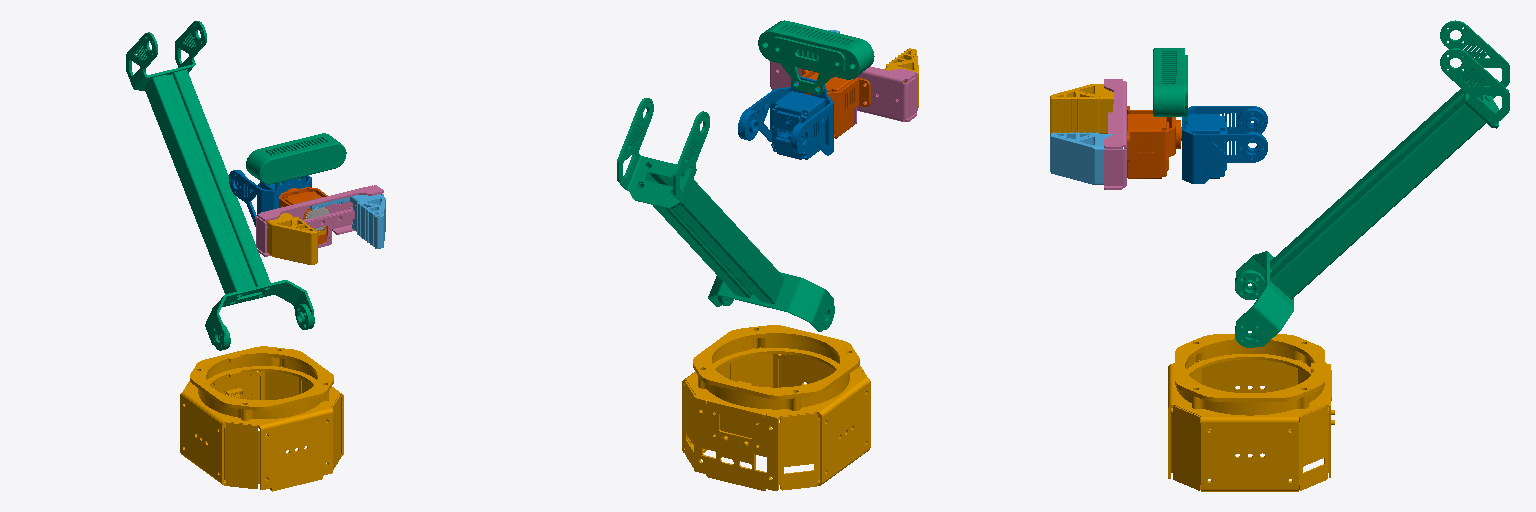
robot.urdf — NexArm-sim:
<?xml version='1.0' encoding='utf-8'?>
<robot name="NexArm-sim">
  <link name="base_link">
    <inertial>
      <origin xyz="0.5393802715439057 0.06383699083344999 0.018575393211147675" rpy="0.0 0.0 0.0" />
      <mass value="0.7867009727411078" />
      <inertia ixx="0.0013980203341607727" iyy="0.0014405623684496105" izz="0.0018724205136954886" ixy="-4.476497315573924e-07" iyz="-1.1875609967841377e-05" ixz="4.8308012364634e-09" />
    </inertial>
    <visual name="base_link_visual">
      <origin xyz="0.0 0.0 0.0" rpy="0.0 -0.0 0.0" />
      <geometry>
        <mesh filename="meshes/base_link.stl" scale="0.001 0.001 0.001" />
      </geometry>
    </visual>
    <collision name="base_link_collision">
      <origin xyz="0.0 0.0 0.0" rpy="0.0 -0.0 0.0" />
      <geometry>
        <mesh filename="meshes/base_link.stl" scale="0.001 0.001 0.001" />
      </geometry>
    </collision>
  </link>
  <link name="link_1">
    <inertial>
      <origin xyz="-4.199830115680925e-08 0.000461154218476052 -0.022484812844014285" rpy="0.0 -0.0 0.0" />
      <mass value="0.7298097041640206" />
      <inertia ixx="0.0005196380704404749" iyy="0.0006372106608207029" izz="0.0006411280732055158" ixy="1.5503778090890374e-06" iyz="-5.0336215709095335e-06" ixz="1.344094443384014e-09" />
    </inertial>
    <visual name="link_1_visual">
      <origin xyz="-0.5393690200000001 0.06397276 0.049" rpy="3.141592653589793 -0.0 0.0" />
      <geometry>
        <mesh filename="meshes/link_1.stl" scale="0.001 0.001 0.001" />
      </geometry>
    </visual>
    <collision name="link_1_collision">
      <origin xyz="-0.5393690200000001 0.06397276 0.049" rpy="3.141592653589793 -0.0 0.0" />
      <geometry>
        <mesh filename="meshes/link_1.stl" scale="0.001 0.001 0.001" />
      </geometry>
    </collision>
  </link>
  <link name="link_2">
    <inertial>
      <origin xyz="0.08170561036299265 0.08044811229562124 0.03427999602199321" rpy="0.0 -0.0 0.0" />
      <mass value="0.4994895733577694" />
      <inertia ixx="0.0011840260217031162" iyy="0.0012834939144562019" izz="0.002232805038931151" ixy="-0.0010795166454906132" iyz="6.3851771092693355e-12" ixz="7.2314793042593806e-12" />
    </inertial>
    <visual name="link_2_visual">
      <origin xyz="-0.10644507000000002 -0.06397276 0.578649020000001" rpy="-0.0 1.5707963267948966 0" />
      <geometry>
        <mesh filename="meshes/link_2.stl" scale="0.001 0.001 0.001" />
      </geometry>
    </visual>
    <collision name="link_2_collision">
      <origin xyz="-0.10644507000000002 -0.06397276 0.578649020000001" rpy="-0.0 1.5707963267948966 0" />
      <geometry>
        <mesh filename="meshes/link_2.stl" scale="0.001 0.001 0.001" />
      </geometry>
    </collision>
  </link>
  <link name="link_3">
    <inertial>
      <origin xyz="-0.02959882086442427 -0.06364854907978122 -0.018747624887388882" rpy="0.0 -0.0 0.0" />
      <mass value="0.5027979794005489" />
      <inertia ixx="0.0012457364008059968" iyy="0.0003252813199526585" izz="0.0014864851567596982" ixy="-0.0005481574072941295" iyz="1.7122605748571275e-06" ixz="6.545497001490061e-07" />
    </inertial>
    <visual name="link_3_visual">
      <origin xyz="-0.29168374 -0.1969340899999739 0.5194390200000099" rpy="-0.0 1.5707963267948464 0" />
      <geometry>
        <mesh filename="meshes/link_3.stl" scale="0.001 0.001 0.001" />
      </geometry>
    </visual>
    <collision name="link_3_collision">
      <origin xyz="-0.29168374 -0.1969340899999739 0.5194390200000099" rpy="-0.0 1.5707963267948464 0" />
      <geometry>
        <mesh filename="meshes/link_3.stl" scale="0.001 0.001 0.001" />
      </geometry>
    </collision>
  </link>
  <link name="link_4">
    <inertial>
      <origin xyz="-0.004596162045565677 0.024238573406463956 0.02009884794590512" rpy="0.0 -0.0 0.0" />
      <mass value="0.11506895352591937" />
      <inertia ixx="5.093441135242682e-05" iyy="3.793835926420297e-05" izz="3.8344234090156165e-05" ixy="2.892912590979997e-06" iyz="-3.0530253180508643e-07" ixz="-1.847602894289313e-08" />
    </inertial>
    <visual name="link_4_visual">
      <origin xyz="-0.23040605 0.06551997 -0.51911883" rpy="-3.141592653589793 -1.5707963267948966 0" />
      <geometry>
        <mesh filename="meshes/link_4.stl" scale="0.001 0.001 0.001" />
      </geometry>
    </visual>
    <collision name="link_4_collision">
      <origin xyz="-0.23040605 0.06551997 -0.51911883" rpy="-3.141592653589793 -1.5707963267948966 0" />
      <geometry>
        <mesh filename="meshes/link_4.stl" scale="0.001 0.001 0.001" />
      </geometry>
    </collision>
  </link>
  <link name="link_5">
    <inertial>
      <origin xyz="-6.0039181147146795e-05 -0.004197779031396997 0.016151653758254322" rpy="0.0 -0.0 0.0" />
      <mass value="0.08776451730987904" />
      <inertia ixx="1.6187345587265374e-05" iyy="1.8088799273514866e-05" izz="1.8185347874118823e-05" ixy="-7.538487065139599e-08" iyz="3.821086892151775e-07" ixz="-1.9977723024017192e-08" />
    </inertial>
    <visual name="link_5_visual">
      <origin xyz="-0.5393686400000001 -0.23042272 0.01828561" rpy="-1.5707963267948966 -0.0 0.0" />
      <geometry>
        <mesh filename="meshes/link_5.stl" scale="0.001 0.001 0.001" />
      </geometry>
    </visual>
    <collision name="link_5_collision">
      <origin xyz="-0.5393686400000001 -0.23042272 0.01828561" rpy="-1.5707963267948966 -0.0 0.0" />
      <geometry>
        <mesh filename="meshes/link_5.stl" scale="0.001 0.001 0.001" />
      </geometry>
    </collision>
  </link>
  <link name="link_6_gripper_base">
    <inertial>
      <origin xyz="0.5393685664856291 -0.02102069277037339 0.2306018231485346" rpy="0.0 0.0 0.0" />
      <mass value="0.07749283027852251" />
      <inertia ixx="8.952537590137775e-06" iyy="9.853334412318962e-05" izz="9.251692805788483e-05" ixy="1.8891493512758484e-11" iyz="7.900778562104898e-08" ixz="5.424480309379476e-15" />
    </inertial>
    <visual name="link_6_gripper_base_visual">
      <origin xyz="0.0 0.0 0.0" rpy="0.0 -0.0 0.0" />
      <geometry>
        <mesh filename="meshes/link_6_gripper_base.stl" scale="0.001 0.001 0.001" />
      </geometry>
    </visual>
    <collision name="link_6_gripper_base_collision">
      <origin xyz="0.0 0.0 0.0" rpy="0.0 -0.0 0.0" />
      <geometry>
        <mesh filename="meshes/link_6_gripper_base.stl" scale="0.001 0.001 0.001" />
      </geometry>
    </collision>
  </link>
  <link name="link_6_pinion_gear">
    <inertial>
      <origin xyz="-4.122732661926421e-09 4.081657429821916e-09 -0.0019703703226832546" rpy="6.776263578034404e-21 -0.0 0.0" />
      <mass value="0.008131534567490549" />
      <inertia ixx="1.9890863152052926e-07" iyy="1.9890863100109276e-07" izz="3.7122787357920037e-07" ixy="-2.7994228680281134e-16" iyz="-4.0418199962967223e-17" ixz="-2.6820585802733212e-17" />
    </inertial>
    <visual name="link_6_pinion_gear_visual">
      <origin xyz="-0.53936865 -0.23043719762188308 -0.021642584870936954" rpy="-1.5708442580926307 -0.0 0.0" />
      <geometry>
        <mesh filename="meshes/link_6_pinion_gear.stl" scale="0.001 0.001 0.001" />
      </geometry>
    </visual>
    <collision name="link_6_pinion_gear_collision">
      <origin xyz="-0.53936865 -0.23043719762188308 -0.021642584870936954" rpy="-1.5708442580926307 -0.0 0.0" />
      <geometry>
        <mesh filename="meshes/link_6_pinion_gear.stl" scale="0.001 0.001 0.001" />
      </geometry>
    </collision>
  </link>
  <link name="link_6_left_jaw">
    <inertial>
      <origin xyz="-0.03536546290490563 -0.0006633655070400124 0.011466138343975914" rpy="6.776263578034404e-21 -0.0 0.0" />
      <mass value="0.11142260604578982" />
      <inertia ixx="2.2804235248568422e-05" iyy="2.255512636191442e-05" izz="1.4375197308055872e-05" ixy="7.004973742075893e-07" iyz="-1.3796736287458321e-06" ixz="-1.934261938187853e-06" />
    </inertial>
    <visual name="link_6_left_jaw_visual">
      <origin xyz="-0.53936865 -0.23043719922957429 -0.027935084878088212" rpy="-1.5708442580926303 -0.0 0.0" />
      <geometry>
        <mesh filename="meshes/link_6_left_jaw.stl" scale="0.001 0.001 0.001" />
      </geometry>
    </visual>
    <collision name="link_6_left_jaw_collision">
      <origin xyz="-0.53936865 -0.23043719922957429 -0.027935084878088212" rpy="-1.5708442580926303 -0.0 0.0" />
      <geometry>
        <mesh filename="meshes/link_6_left_jaw.stl" scale="0.001 0.001 0.001" />
      </geometry>
    </collision>
  </link>
  <link name="link_6_right_jaw">
    <inertial>
      <origin xyz="0.03536546982850048 0.0006598048310233295 0.011466137710707813" rpy="6.776263578034404e-21 -0.0 0.0" />
      <mass value="0.11142260605875676" />
      <inertia ixx="2.2804760926301536e-05" iyy="2.2555125740236623e-05" izz="1.4375723854426356e-05" ixy="7.018202894736887e-07" iyz="1.3752342852291747e-06" ixz="1.9342613047410853e-06" />
    </inertial>
    <visual name="link_6_right_jaw_visual">
      <origin xyz="-0.5393686400000001 -0.23043719922957429 -0.027935084878088212" rpy="-1.5708442580926303 -0.0 0.0" />
      <geometry>
        <mesh filename="meshes/link_6_right_jaw.stl" scale="0.001 0.001 0.001" />
      </geometry>
    </visual>
    <collision name="link_6_right_jaw_collision">
      <origin xyz="-0.5393686400000001 -0.23043719922957429 -0.027935084878088212" rpy="-1.5708442580926303 -0.0 0.0" />
      <geometry>
        <mesh filename="meshes/link_6_right_jaw.stl" scale="0.001 0.001 0.001" />
      </geometry>
    </collision>
  </link>
  <link name="cam_mount">
    <inertial>
      <origin xyz="0.5389811889397982 0.0126462358897133 0.2666524882446766" rpy="0.0 0.0 0.0" />
      <mass value="0.12872320686355024" />
      <inertia ixx="1.4546364860019631e-05" iyy="6.651398800493896e-05" izz="6.725268418215913e-05" ixy="-1.9481818520710424e-07" iyz="8.296604477643372e-07" ixz="1.7642127581735112e-08" />
    </inertial>
    <visual name="cam_mount_visual">
      <origin xyz="0.0 0.0 0.0" rpy="0.0 -0.0 0.0" />
      <geometry>
        <mesh filename="meshes/cam_mount.stl" scale="0.001 0.001 0.001" />
      </geometry>
    </visual>
    <collision name="cam_mount_collision">
      <origin xyz="0.0 0.0 0.0" rpy="0.0 -0.0 0.0" />
      <geometry>
        <mesh filename="meshes/cam_mount.stl" scale="0.001 0.001 0.001" />
      </geometry>
    </collision>
  </link>
  <joint name="joint_2_link_1_to_link_2" type="revolute">
    <origin xyz="0.03509999999999998 0.0 -0.05744507000000001" rpy="-3.141592653589793 1.5707963267948966 0" />
    <parent link="link_1" />
    <child link="link_2" />
    <axis xyz="0.0 0.0 1.0" />
    <limit lower="-2.094395" upper="2.094395" effort="1000000" velocity="1000000" />
  </joint>
  <joint name="joint_1_base_to_link_1" type="revolute">
    <origin xyz="0.5393690200000001 0.06397276 0.049" rpy="3.141592653589793 -0.0 0.0" />
    <parent link="base_link" />
    <child link="link_1" />
    <axis xyz="0.0 0.0 1.0" />
    <limit lower="-2.356194" upper="2.356194" effort="1000000" velocity="1000000" />
  </joint>
  <joint name="joint_3_link_2_to_link_3" type="revolute">
    <origin xyz="0.18523867 0.13296133 0.05503" rpy="5.02429586778803e-14 -0.0 0.0" />
    <parent link="link_2" />
    <child link="link_3" />
    <axis xyz="0.0 5.02429586778803e-14 1.0" />
    <limit lower="-2.356194" upper="2.356194" effort="1000000" velocity="1000000" />
  </joint>
  <joint name="joint_4_link_3_to_link_4" type="revolute">
    <origin xyz="-0.06127769000000001 -0.13141411999999997 0.00032019000000659047" rpy="3.141592653589743 -0.0 0.0" />
    <parent link="link_3" />
    <child link="link_4" />
    <axis xyz="0.0 0.0 1.0" />
    <limit lower="-1.745329" upper="1.745329" effort="1000000" velocity="1000000" />
  </joint>
  <joint name="joint_5_link_4_to_link_5" type="revolute">
    <origin xyz="1.6670000000011955e-05 0.047234359999999996 0.02024980999999997" rpy="-1.5707963267948966 -1.5707963267948966 0" />
    <parent link="link_4" />
    <child link="link_5" />
    <axis xyz="0.0 0.0 1.0" />
    <limit lower="-3.141593" upper="3.141593" effort="1000000" velocity="1000000" />
  </joint>
  <joint name="gripper_pinion_joint" type="continuous">
    <origin xyz="0.53936865 -0.021653630000000004 0.23043616" rpy="1.5708442580926307 -0.0 0.0" />
    <parent link="link_6_gripper_base" />
    <child link="link_6_pinion_gear" />
    <axis xyz="0.0 -6.870222917566046e-08 1.0000000011519976" />
  </joint>
  <joint name="left_jaw_slide_joint" type="prismatic">
    <origin xyz="0.53936865 -0.02794613 0.23043586000000002" rpy="1.5708442580926303 -0.0 0.0" />
    <parent link="link_6_gripper_base" />
    <child link="link_6_left_jaw" />
    <axis xyz="1.0 0.0 0.0" />
    <limit lower="0.0" upper="0.0255" effort="1000000" velocity="1000000" />
  </joint>
  <joint name="right_jaw_slide_joint" type="prismatic">
    <origin xyz="0.5393686400000001 -0.02794613 0.23043586000000002" rpy="1.5708442580926303 -0.0 0.0" />
    <parent link="link_6_gripper_base" />
    <child link="link_6_right_jaw" />
    <axis xyz="1.0 0.0 0.0" />
    <limit lower="-0.0255" upper="0.0" effort="1000000" velocity="1000000" />
    <mimic joint="left_jaw_slide_joint" multiplier="-1" offset="0" />
  </joint>
  <joint name="tool_to_gripper_base_fixed" type="fixed">
    <origin xyz="-0.5393686400000001 -0.23042272 0.01828561" rpy="-1.5707963267948966 -0.0 0.0" />
    <parent link="link_5" />
    <child link="link_6_gripper_base" />
  </joint>
  <joint name="camera_mount_fixed_to_link_4" type="fixed">
    <origin xyz="-0.23040605 0.06551997 -0.51911883" rpy="-3.141592653589793 -1.5707963267948966 0" />
    <parent link="link_4" />
    <child link="cam_mount" />
  </joint>
</robot>

--- What the picture shows (computed from the rendered views, not written in the file) ---
3 views of the same robot in one strip: view 1: azimuth 30°, elevation 25°; view 2: azimuth 150°, elevation 25°; view 3: azimuth 270°, elevation 25° (orthographic).
Robot: NexArm-sim — 11 links, 10 joints (5 revolute, 1 continuous, 2 prismatic, 2 fixed); root link base_link; default pose: all joints at 0.
Links seen in each view (by area): view 1: base_link, link_2, cam_mount, link_6_gripper_base, link_6_left_jaw, link_6_right_jaw, link_4, link_5; view 2: base_link, link_2, link_4, cam_mount, link_6_gripper_base, link_5, link_6_left_jaw; view 3: base_link, link_2, link_4, link_5, link_6_left_jaw, link_6_right_jaw, cam_mount, link_6_gripper_base.
Link boxes in pixels (x1,y1,x2,y2): base_link: (180, 346, 343, 491); link_2: (126, 21, 314, 350); cam_mount: (246, 133, 346, 184); link_6_gripper_base: (256, 185, 383, 256); link_6_left_jaw: (266, 213, 325, 264); link_6_right_jaw: (310, 194, 385, 248); link_4: (229, 170, 311, 226); link_5: (279, 187, 341, 244); base_link: (682, 325, 870, 490); link_2: (617, 98, 834, 331); link_4: (738, 76, 833, 159); cam_mount: (758, 20, 874, 94); link_6_gripper_base: (770, 61, 917, 124); link_5: (797, 69, 870, 138); link_6_left_jaw: (884, 48, 918, 107); base_link: (1168, 334, 1334, 491); link_2: (1235, 20, 1509, 347); link_4: (1182, 106, 1267, 183); link_5: (1127, 106, 1181, 178); link_6_left_jaw: (1050, 84, 1113, 133); link_6_right_jaw: (1050, 132, 1113, 184); cam_mount: (1153, 48, 1187, 123); link_6_gripper_base: (1104, 79, 1126, 189).
Size in the robot's own frame: 0.106 by 0.297 by 0.3057 metres.
Meshes: 11 distinct files referenced, 9 mesh visuals loaded (9 binary STL); not drawn: 2 (reference not matched to a file when rendering).
